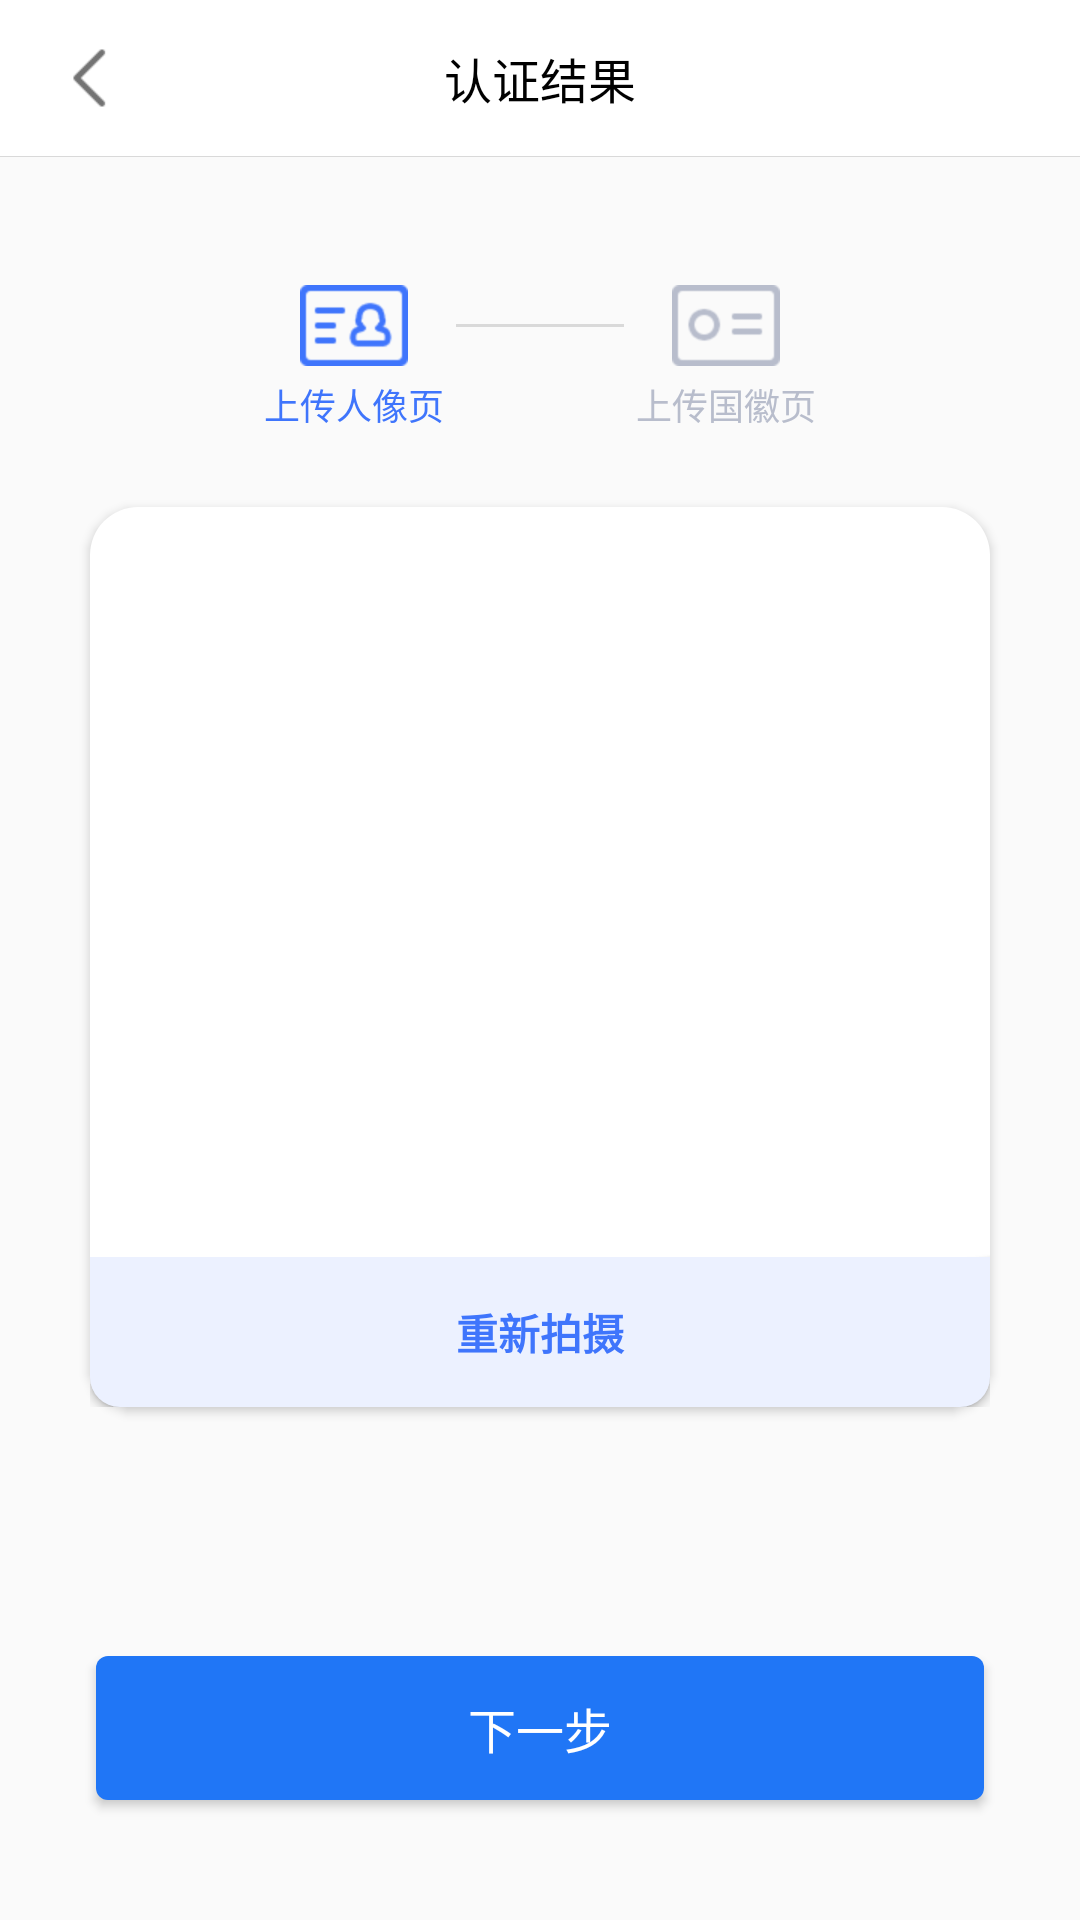

Point at icon controls on the screen. Image size 1080px x 1920px, points as [x,y].
back: [89,78]
